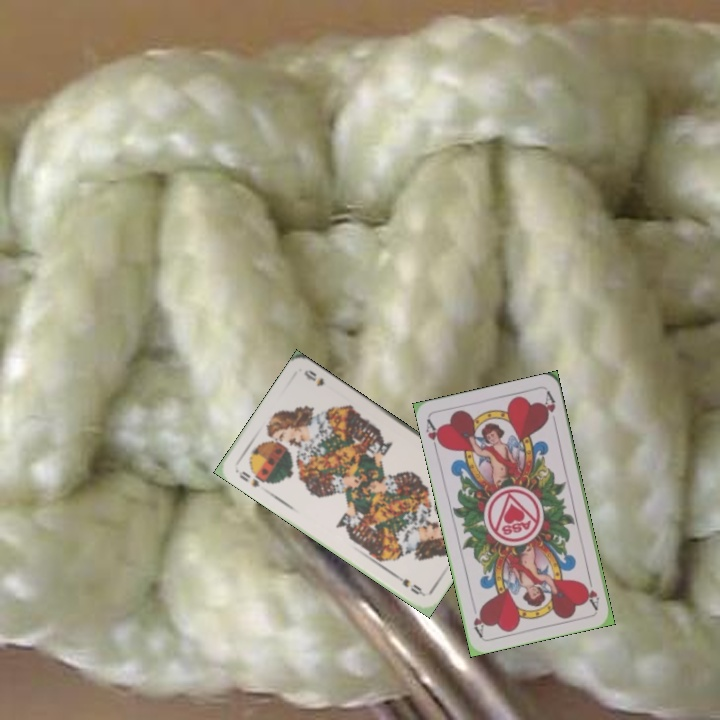HA: (422, 415, 446, 455), (581, 572, 602, 612)
SO: (235, 467, 262, 490)
